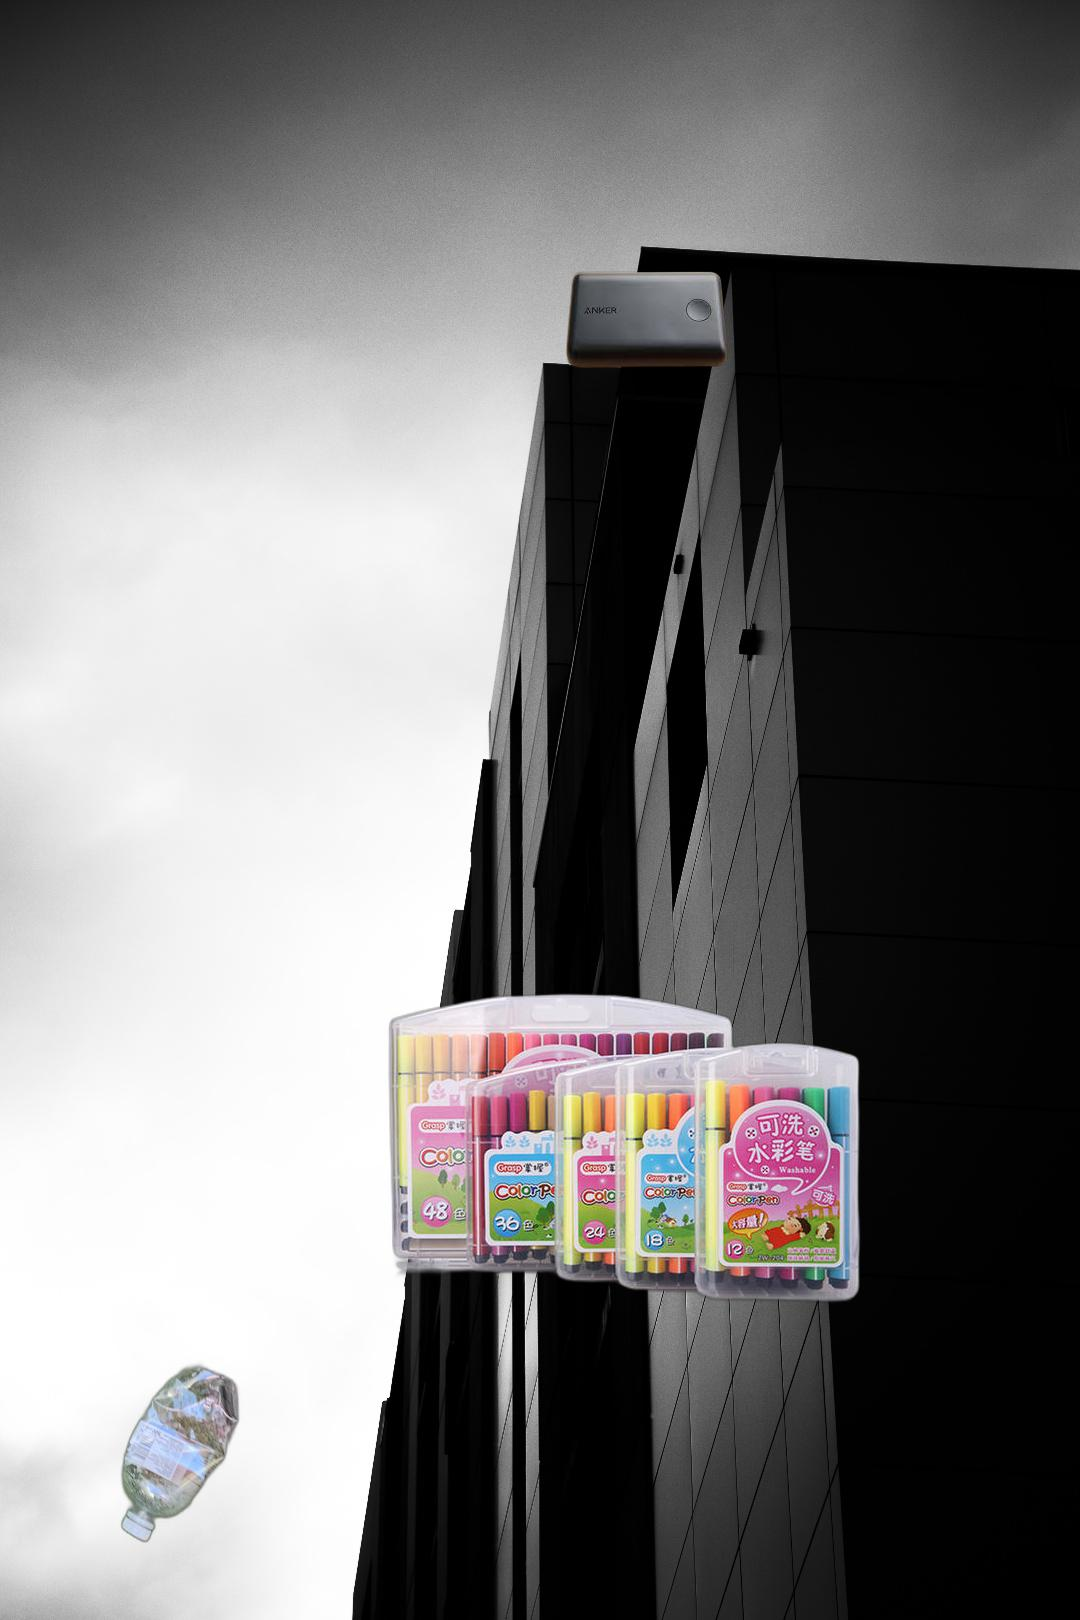battery: (564, 269, 730, 371)
penholder: (385, 990, 865, 1307)
plastic-bottles: (118, 1360, 243, 1548)
